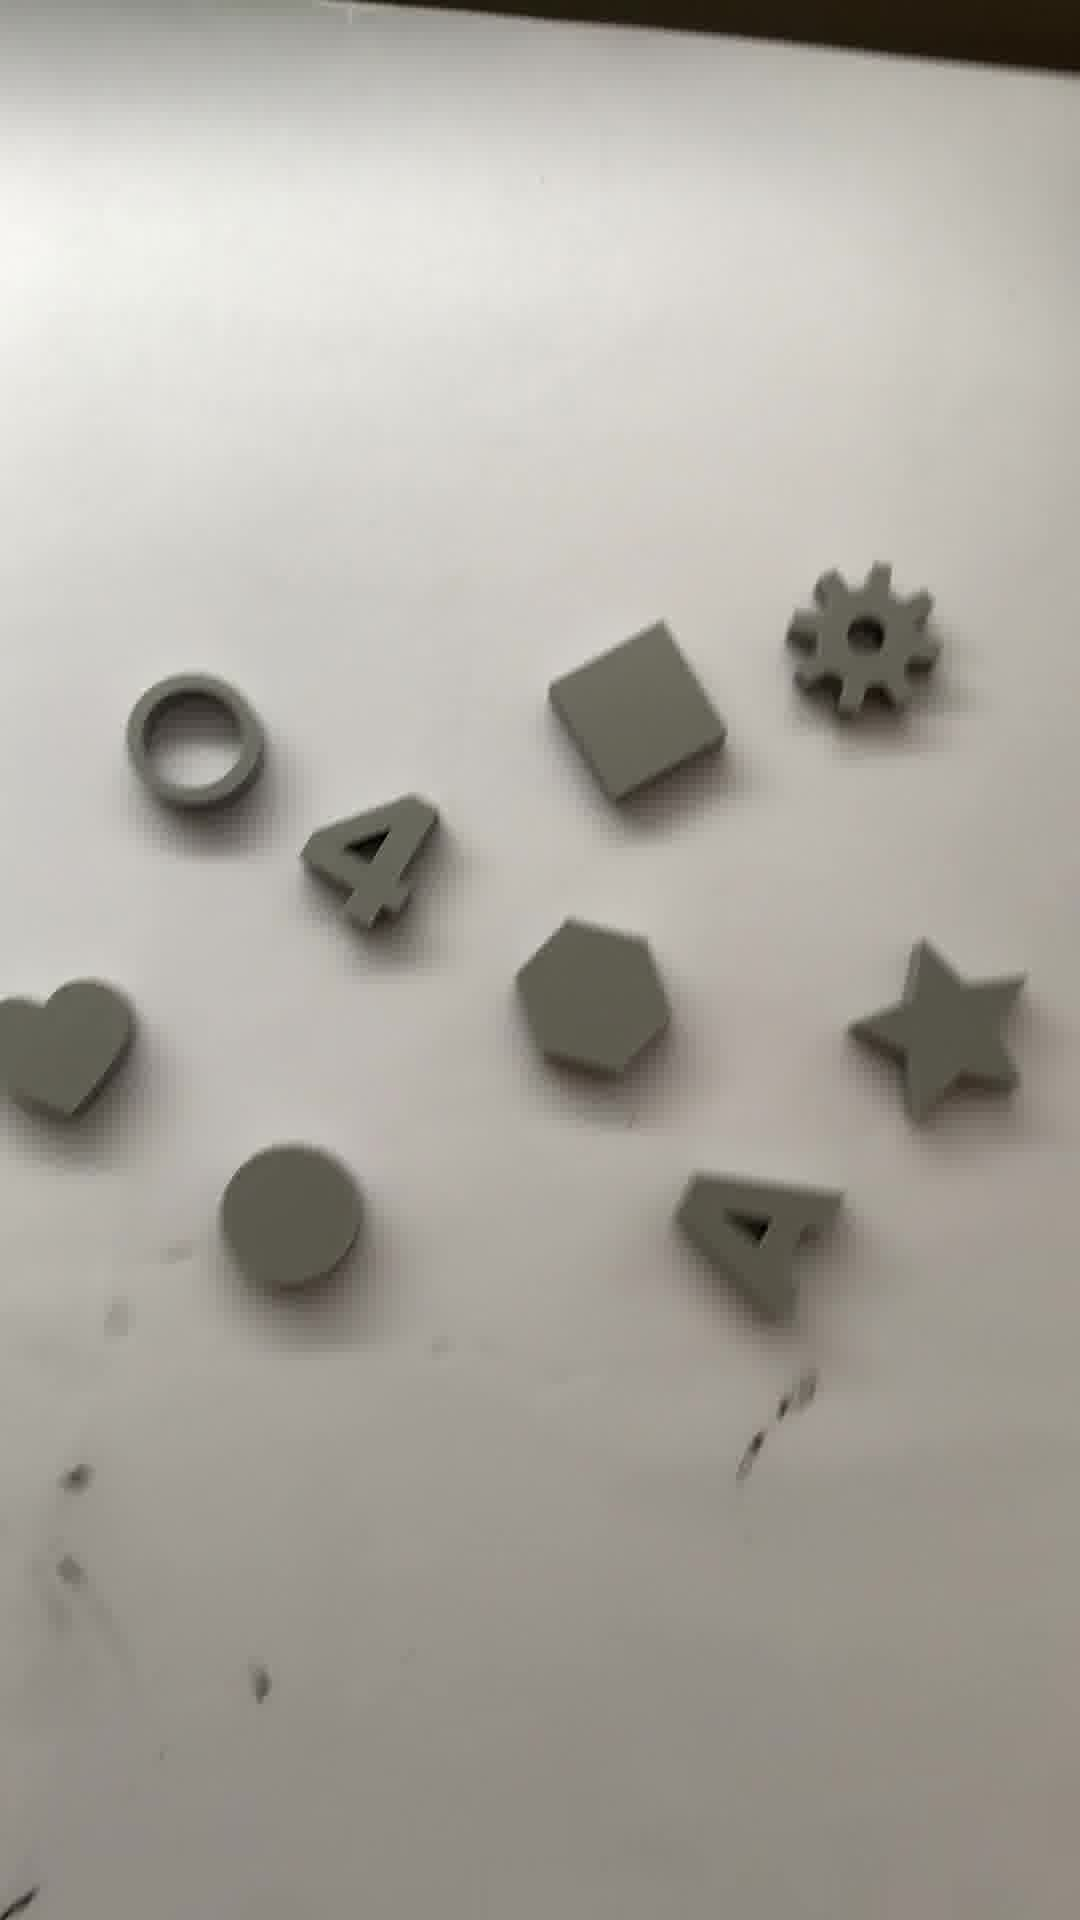Gray A-letter: (670, 1156, 855, 1312)
Gray circle: (214, 1145, 363, 1298)
Gray four: (298, 793, 458, 942)
Gray gear: (798, 567, 945, 720)
Gray heart: (1, 975, 146, 1139)
Gray hexagon: (512, 918, 682, 1091)
Gray ring: (131, 671, 256, 818)
Gray square: (541, 621, 737, 796)
Gray star: (843, 934, 1033, 1127)
